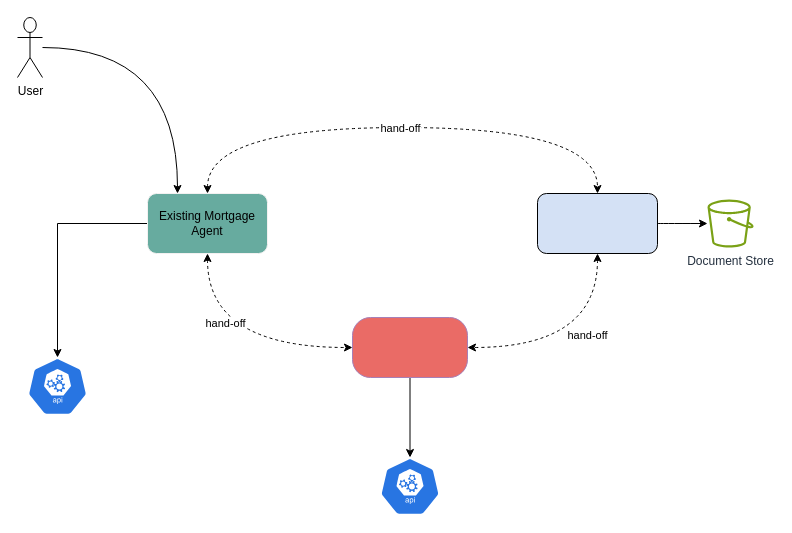
Some shapes in this 792 by 533 pixel diagram are drawn without their labels. The shapes that lost their labels are listed below. From the top down, each one's centre as x and y in pixels, then its label:
At point 597,223: "General Mortgage Agent".
At point 410,347: "Mortgage Application Agent".
